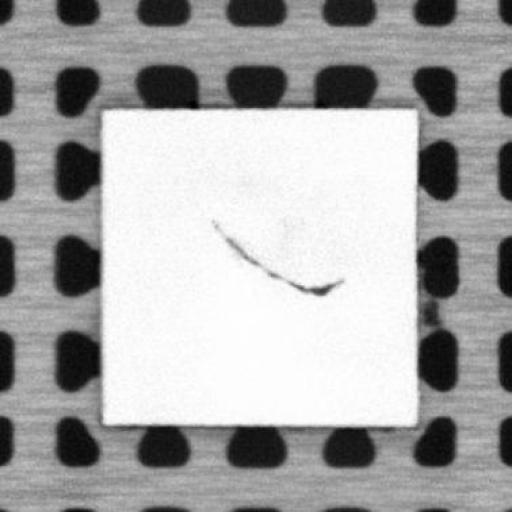DIE_INK: (204, 219, 342, 297)
